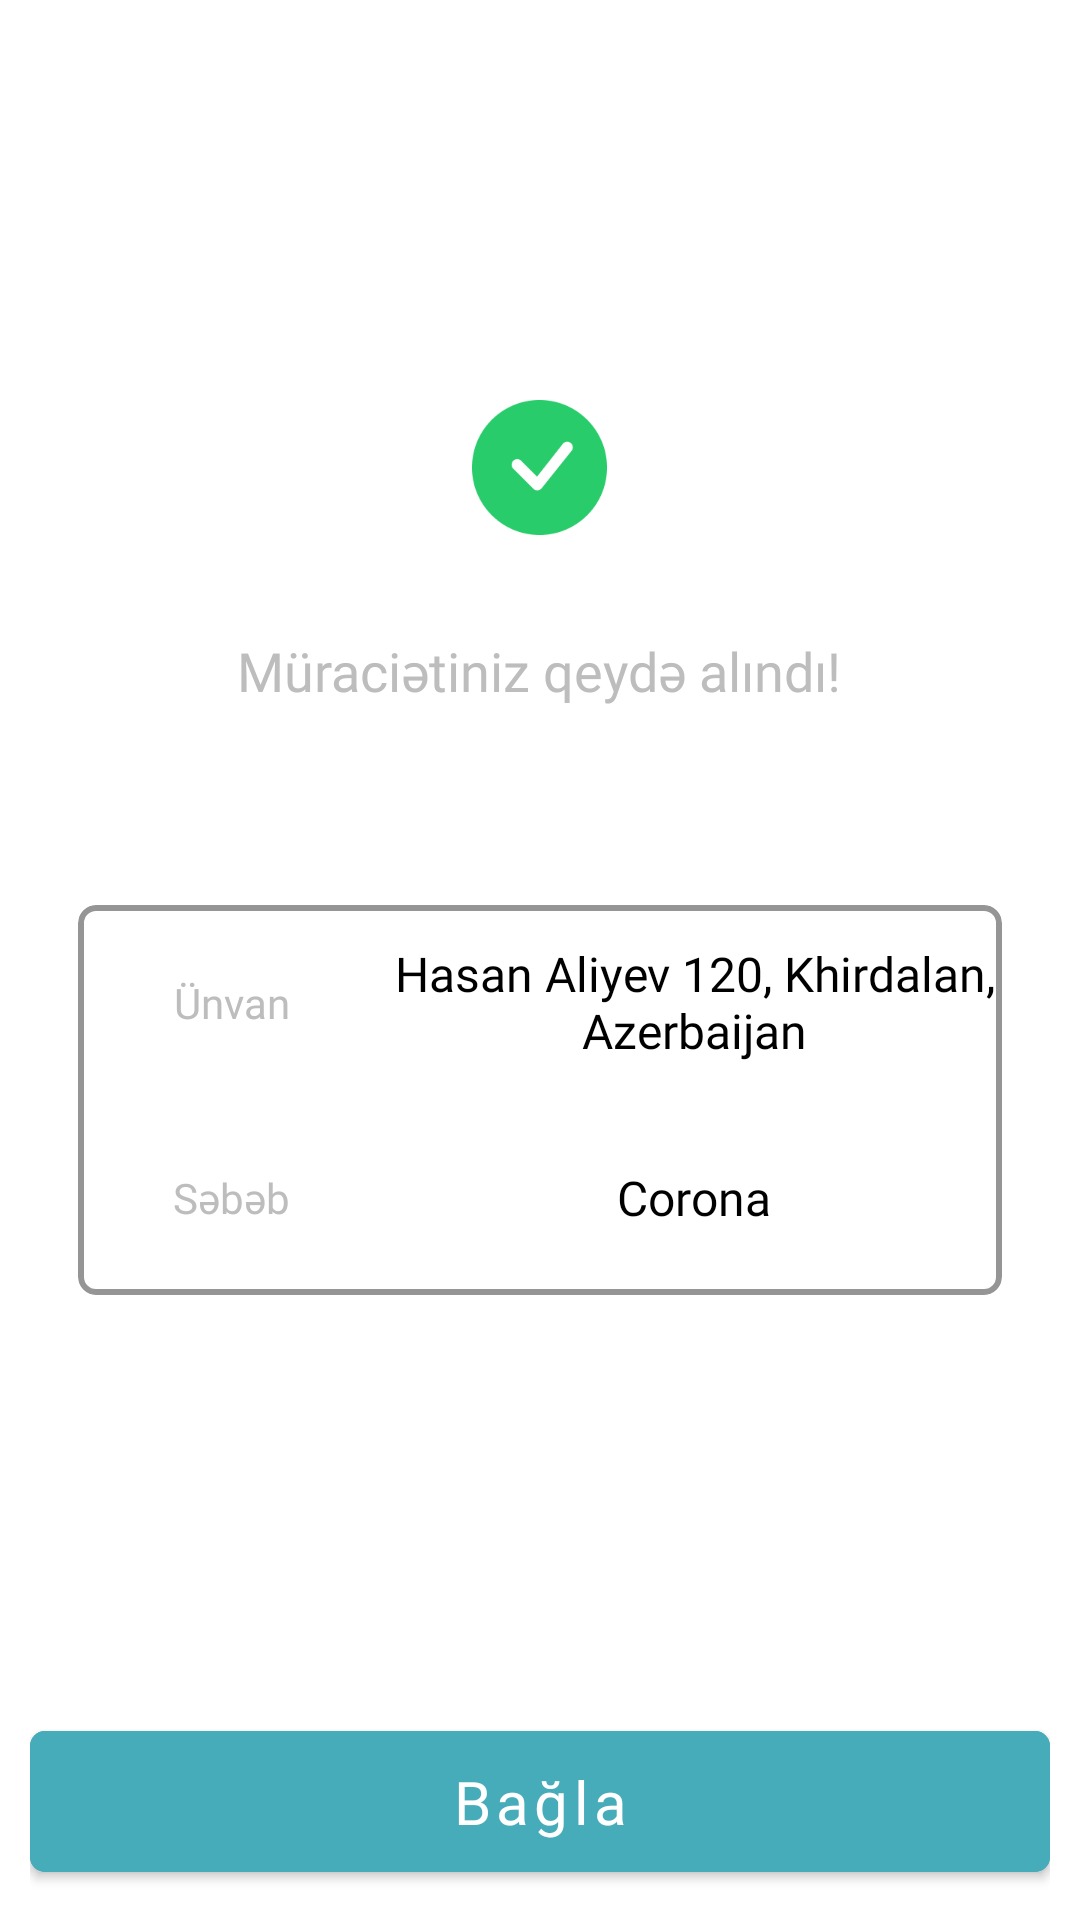

Screen size 1080w x 1920h. Icon name, then its center in pixels as (x,y):
successcheck: (539,467)
